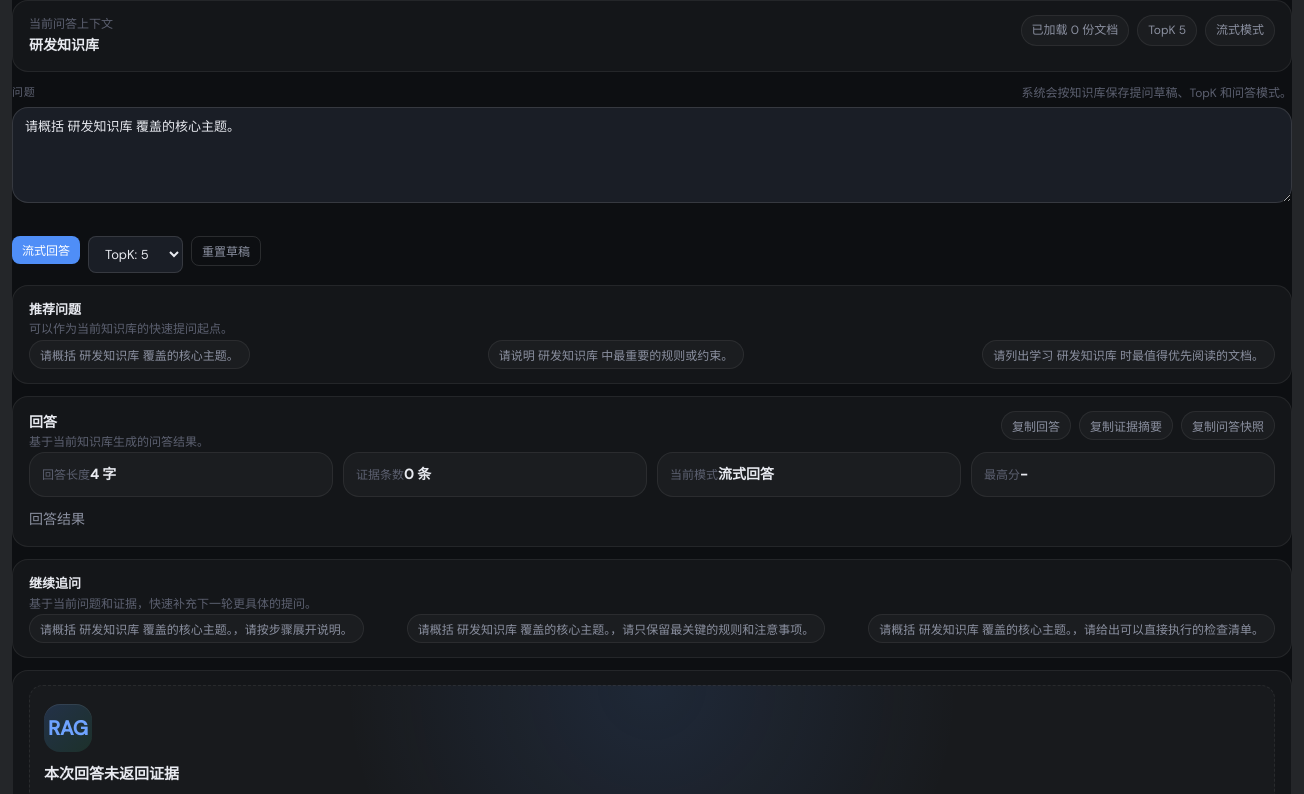
RagQueryPanel › stores recent question and uses suggestion actions
The image size is (1304, 794).
Replace the text in the text box with "接口规范是什么？" at (652, 155), box [12,107,1292,203]
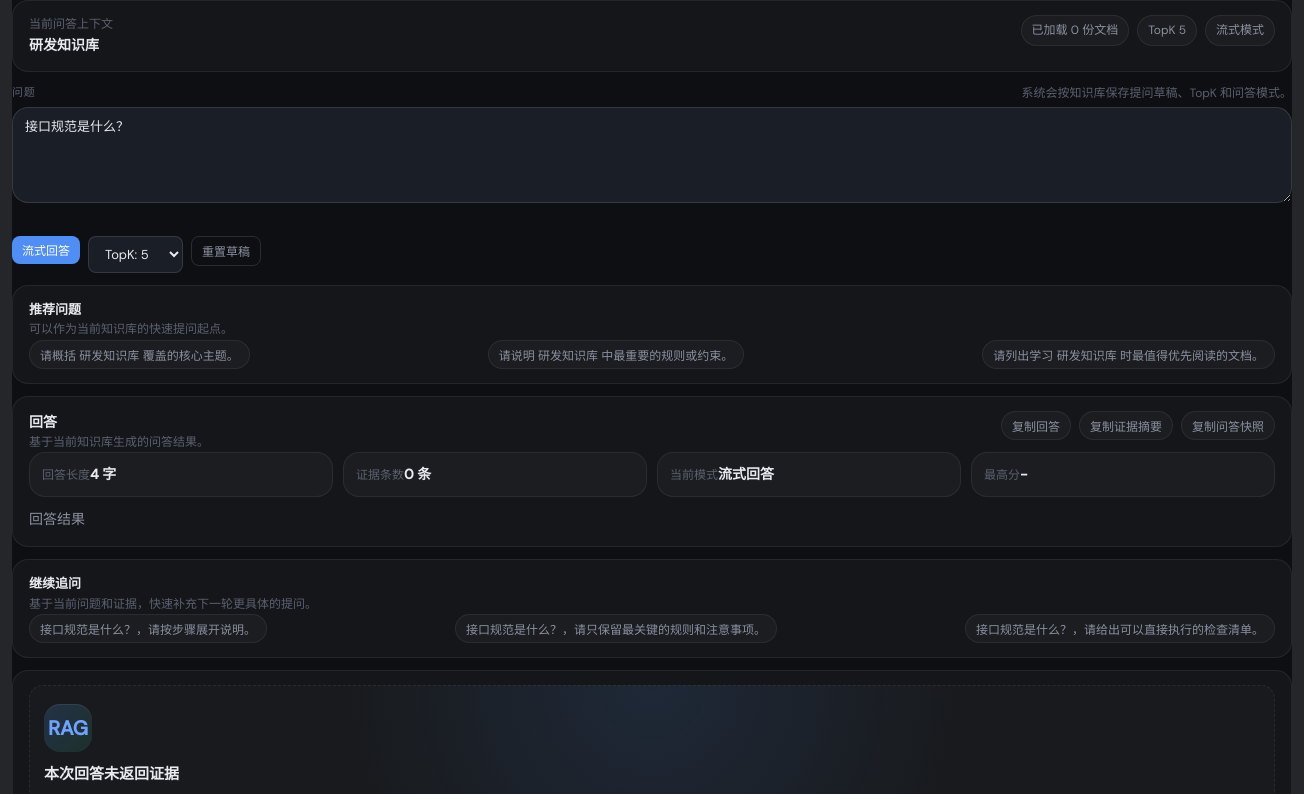
Click the button "流式回答" at (46, 250), box [12,236,80,264]
(page scrolled)
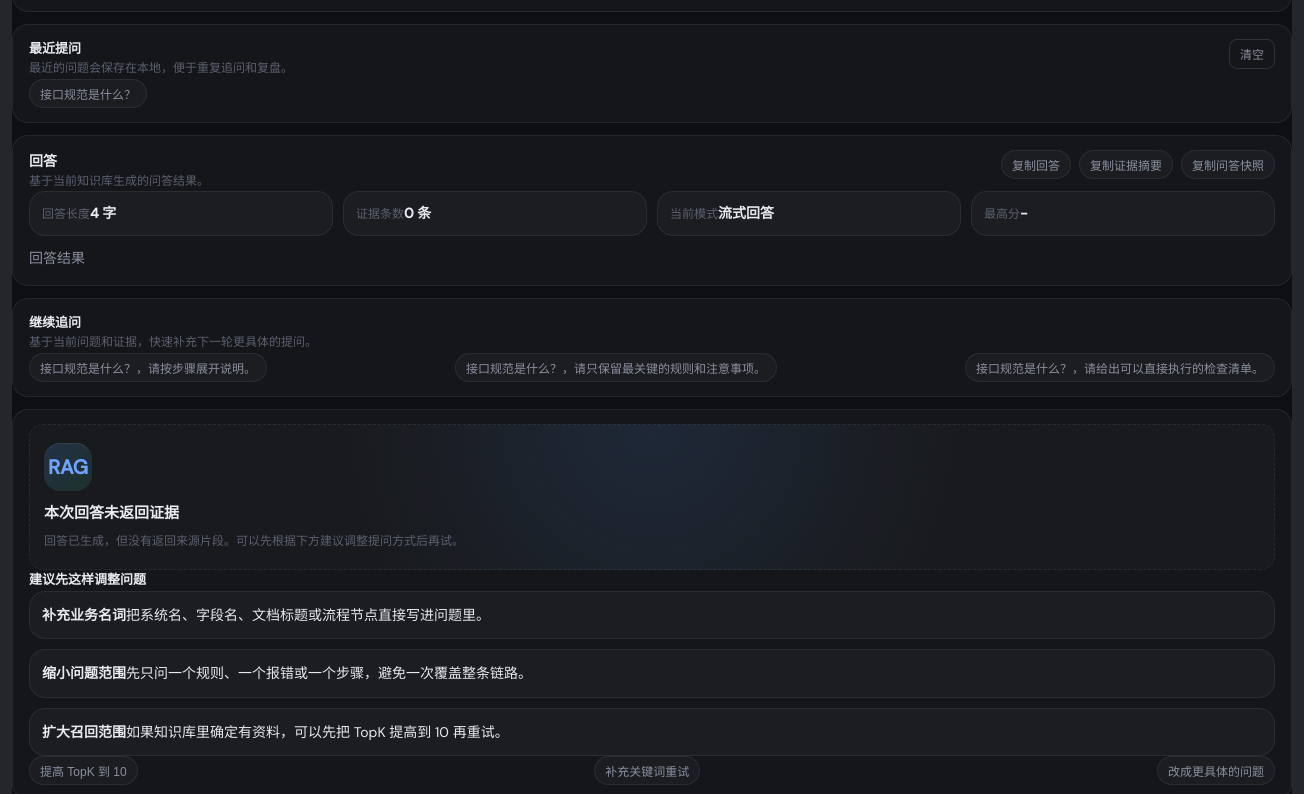
Click the button with class "chip-btn" showing "提高 TopK 到 10" at (83, 770), box [29,756,138,785]
(page scrolled)
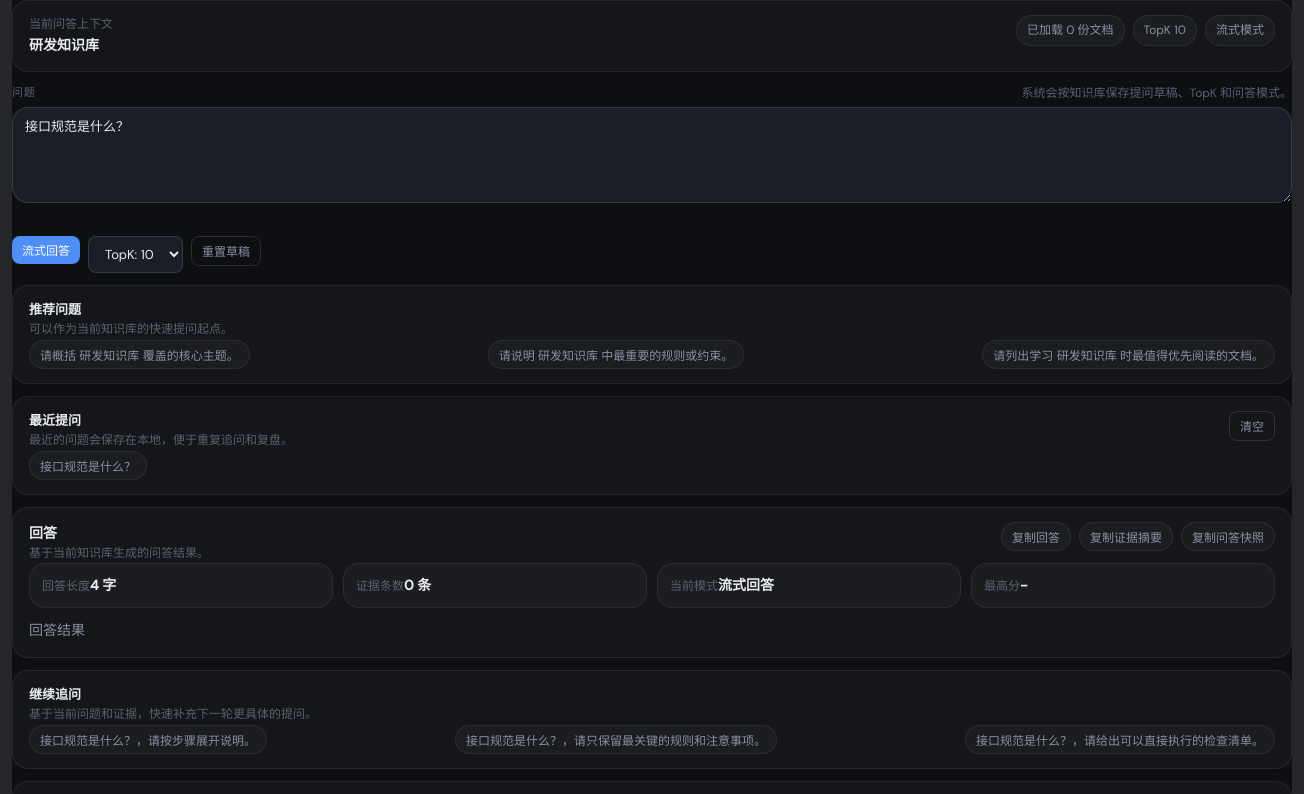
Now the dropdown shows "TopK: 10", box [88,236,183,273]
